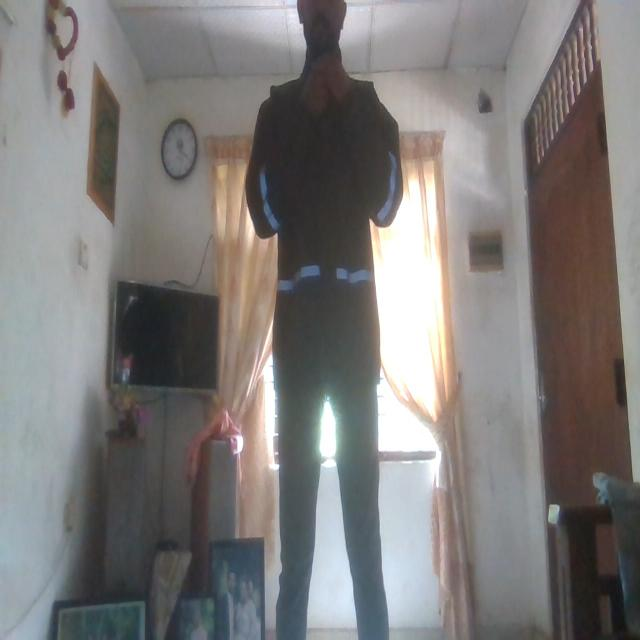Jacket_Wearer: (240, 68, 412, 410)
Person: (246, 0, 410, 640)
